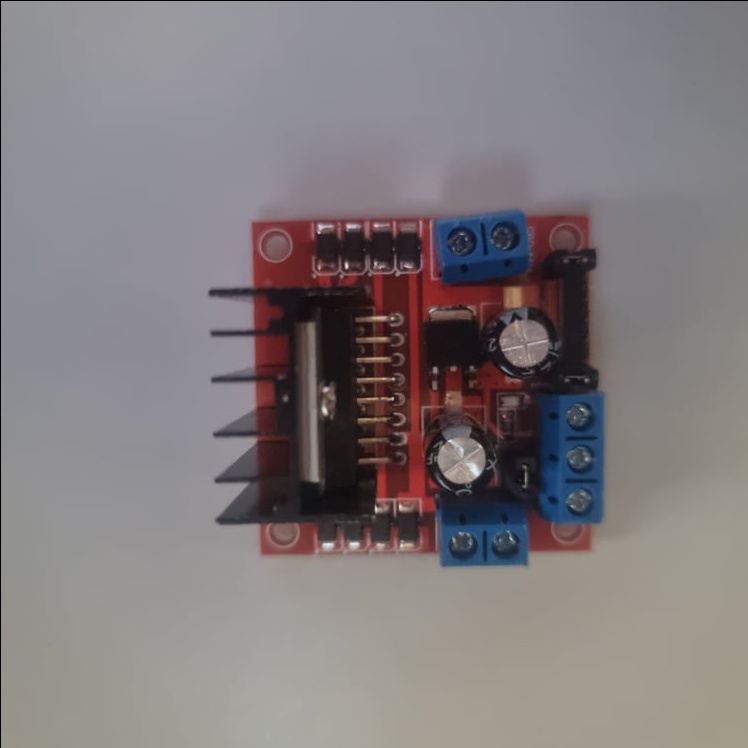MOTOR: (203, 203, 606, 569)
